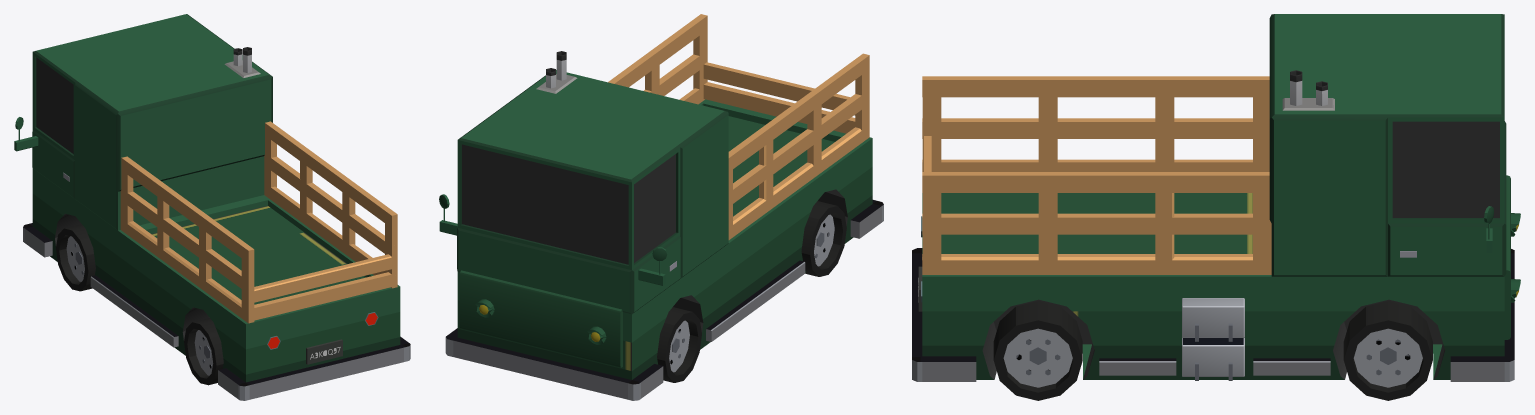
File: Truck_Green.fbx
3 views of the same model, side by side, from view 1: azimuth 30°, elevation 25°; view 2: azimuth 150°, elevation 25°; view 3: azimuth 270°, elevation 25° (orthographic). The views are drawn at different scales.
Visible parts, largest first — view 1: Truck.202, Truck.194, Truck.242, Truck.243, Truck.234, Truck.233, Truck.235, Truck.187, Truck.188, Truck.236, Truck.237, Truck.244 (+11 smaller); view 2: Truck.202, Truck.226, Truck.195, Truck.188, Truck.235, Truck.187, Truck.236, Truck.237, Truck.233, Truck.242, Truck.234, Truck.191 (+9 smaller); view 3: Truck.202, Truck.235, Truck.189, Truck.190, Truck.236, Truck.242, Truck.243, Truck.244, Truck.237, Truck.194, Truck.199, Truck.196 (+14 smaller).
Boxes of the visible parts, bbox=[...] form: Truck.202: bbox=[32, 14, 400, 382]; Truck.194: bbox=[218, 336, 410, 400]; Truck.242: bbox=[265, 121, 397, 228]; Truck.243: bbox=[264, 154, 397, 258]; Truck.234: bbox=[254, 272, 391, 320]; Truck.233: bbox=[254, 254, 391, 302]; Truck.235: bbox=[121, 156, 254, 262]; Truck.187: bbox=[56, 224, 95, 291]; Truck.188: bbox=[184, 318, 223, 385]; Truck.236: bbox=[127, 191, 254, 293]; Truck.237: bbox=[127, 221, 254, 323]; Truck.244: bbox=[264, 183, 397, 288]; Truck.202: bbox=[457, 70, 872, 379]; Truck.226: bbox=[459, 270, 622, 367]; Truck.195: bbox=[445, 328, 663, 400]; Truck.188: bbox=[801, 201, 846, 276]; Truck.235: bbox=[728, 53, 869, 168]; Truck.187: bbox=[657, 307, 701, 382]; Truck.236: bbox=[733, 94, 861, 203]; Truck.237: bbox=[733, 127, 861, 236]; Truck.233: bbox=[703, 62, 855, 115]; Truck.242: bbox=[608, 14, 707, 87]; Truck.234: bbox=[703, 82, 855, 133]; Truck.191: bbox=[706, 260, 805, 341]; Truck.202: bbox=[922, 14, 1506, 379]; Truck.235: bbox=[922, 76, 1269, 97]; Truck.189: bbox=[993, 301, 1082, 400]; Truck.190: bbox=[1343, 301, 1432, 400]; Truck.236: bbox=[922, 118, 1269, 138]; Truck.242: bbox=[922, 172, 1269, 192]; Truck.243: bbox=[922, 213, 1252, 234]; Truck.244: bbox=[922, 254, 1252, 274]; Truck.237: bbox=[922, 159, 1269, 171]; Truck.194: bbox=[912, 248, 976, 381]; Truck.199: bbox=[1182, 298, 1244, 337]; Truck.196: bbox=[1182, 337, 1244, 376].
Bounding box in the file's own units: 825 × 902 × 1579.
1 material, 1 textured.
